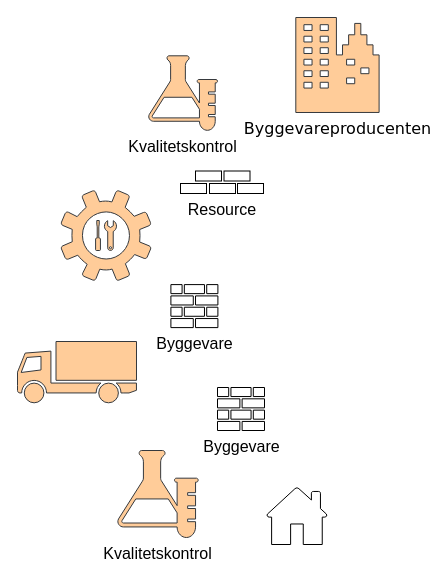
Image size: 448x588. Some labels were removed from this diagram. Each missing label, with the centre of its shape:
"Bygningen" goes at point 297,515.
"Forarbejdning" goes at point 105,235.
"Nedriveren" goes at point 76,371.
